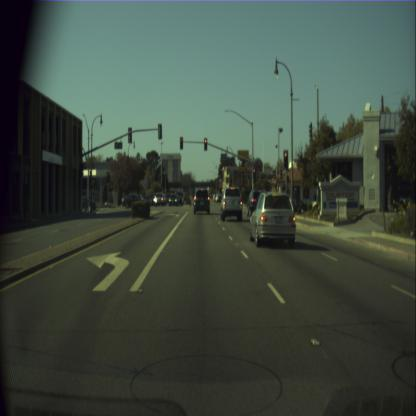Red: (283, 150, 289, 170), (253, 167, 256, 179), (204, 138, 207, 150), (106, 171, 109, 182), (180, 137, 182, 149)
Yellow: (252, 180, 256, 190)
